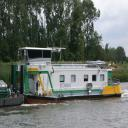tugboat: (11, 40, 124, 109)
